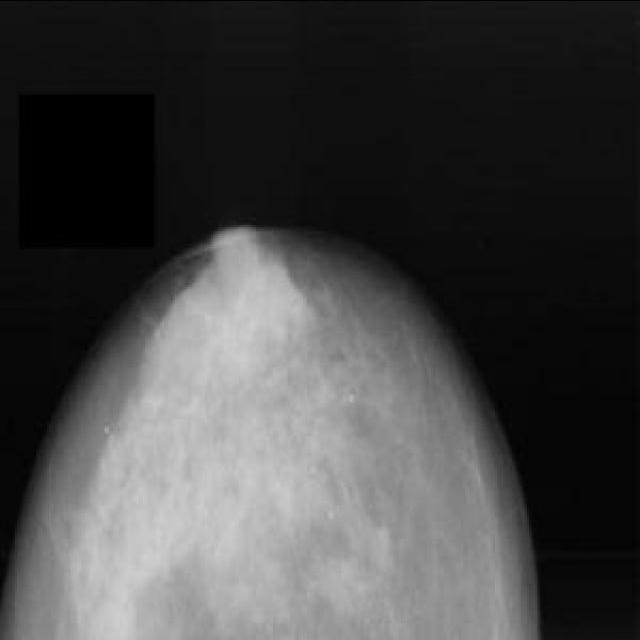tumor: (128, 249, 342, 402)
